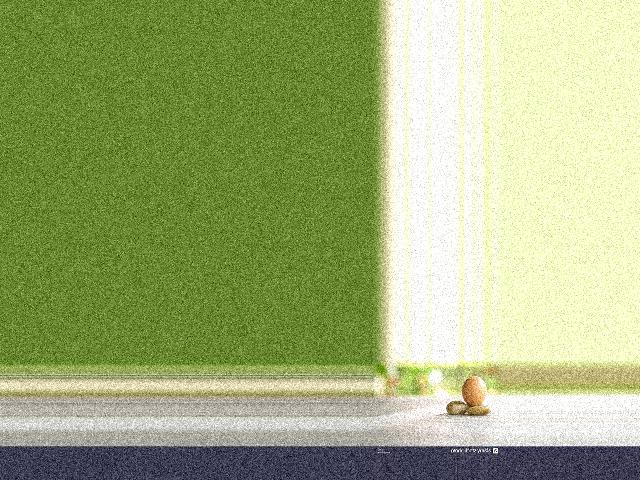egg: (461, 376, 486, 406)
